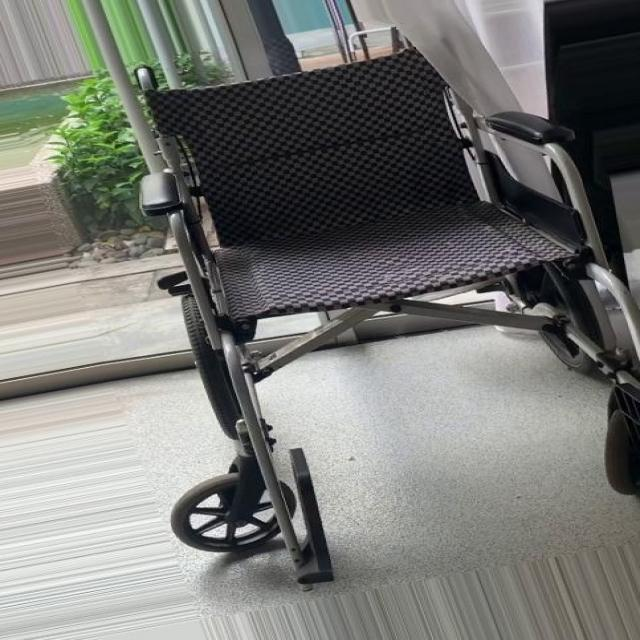wheelchair: (111, 20, 640, 590)
